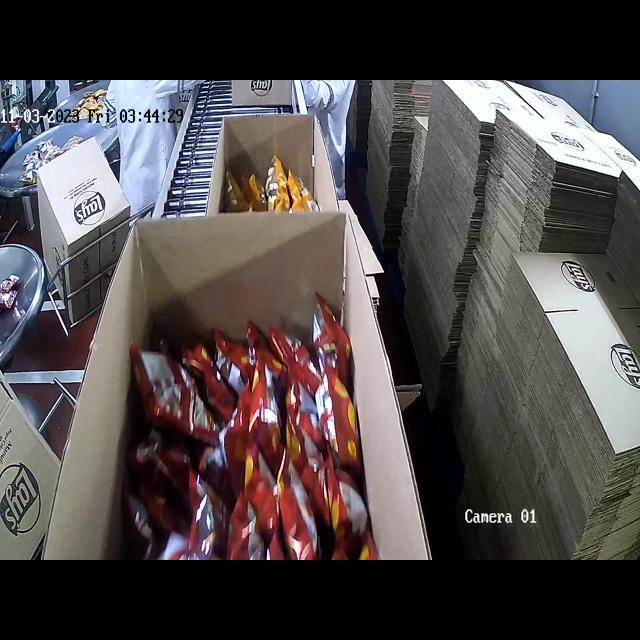cheese: (217, 153, 332, 218)
masala: (145, 340, 365, 560)
